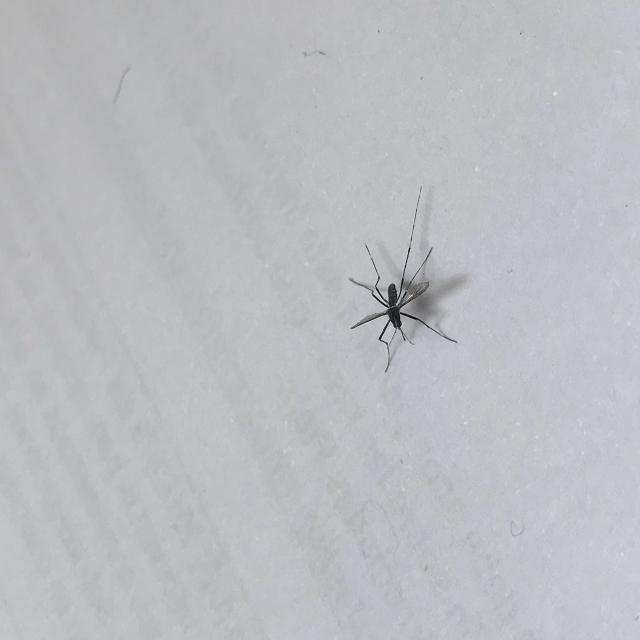albopictus: (339, 186, 460, 371)
